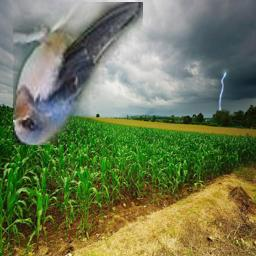Swallow: (13, 2, 143, 145)
